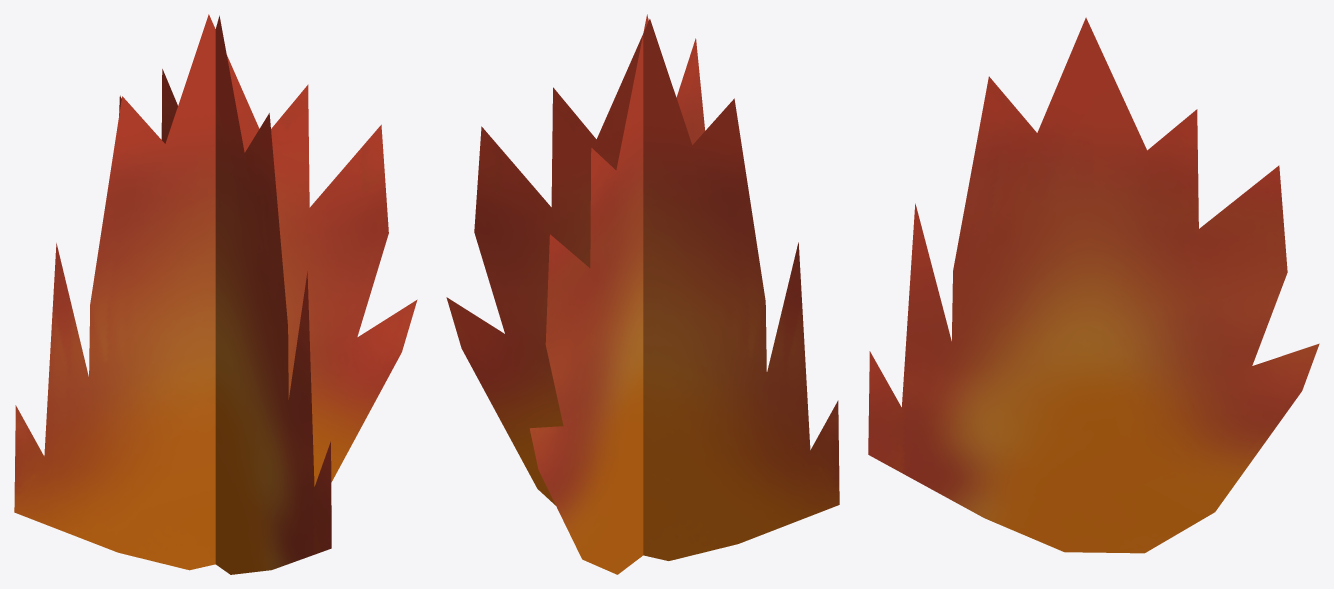
File: firewall.glb
The picture shows the model from 3 angles, left to right: view 1: azimuth 30°, elevation 25°; view 2: azimuth 150°, elevation 25°; view 3: azimuth 270°, elevation 25°; orthographic projection. The views are drawn at different scales.
Visible parts, largest first — view 1: Куб.005; view 2: Куб.005; view 3: Куб.005.
Part boxes in pixels (left/top/right/bottom): Куб.005: left=14, top=14, right=417, bottom=574; Куб.005: left=446, top=14, right=839, bottom=574; Куб.005: left=868, top=17, right=1319, bottom=553.
Bounding box in the file's own units: 0.8416 × 1.1 × 0.8416.
1 material, 1 textured.
